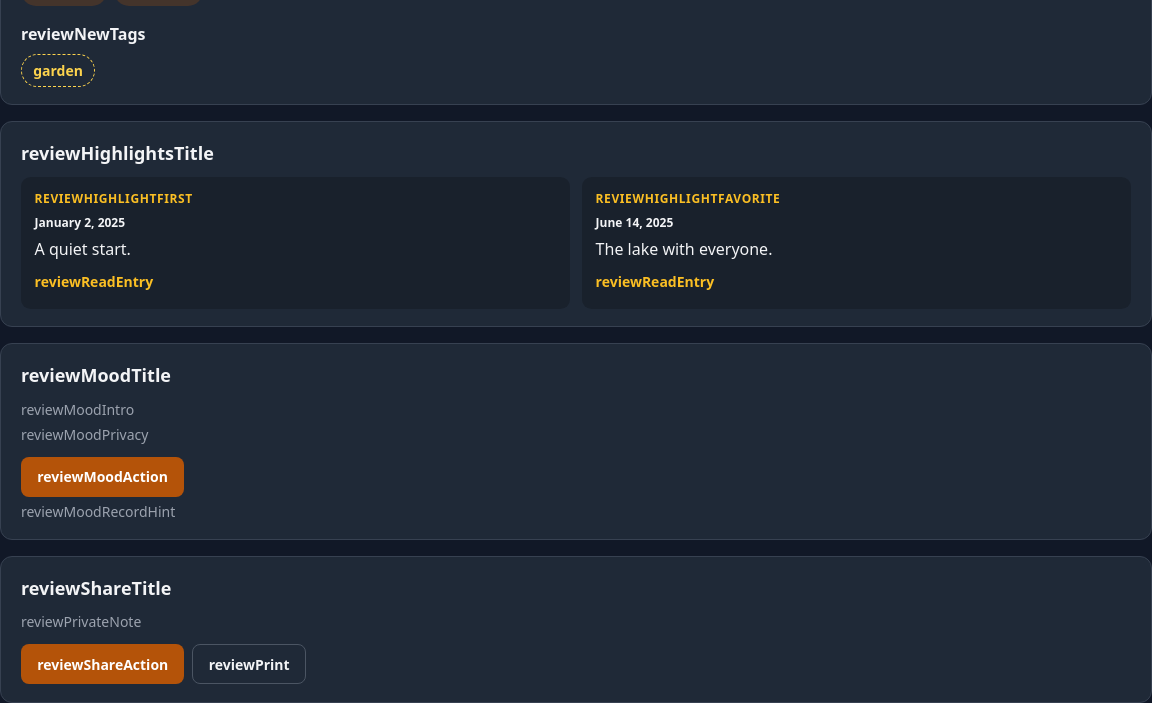
Test: YearReviewPage › reads the mood of the year on request and draws it
(page scrolled)
Check: the text "reviewMoodPrivacy" is shown, box [21,425,148,444]
Click the button "reviewMoodAction".
click(103, 477)  # box [21,457,184,497]
(page scrolled)
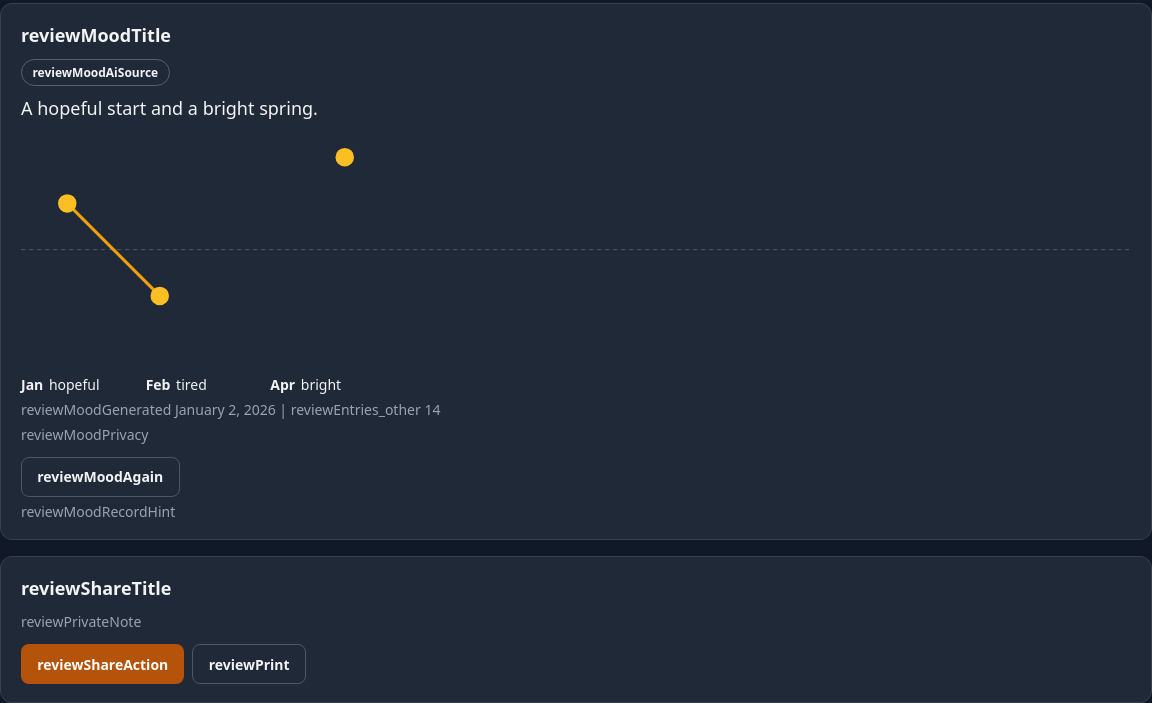
Check: the text "A hopeful start and a bright spring." is shown, box [21,96,318,120]
Check: the picture named "January: hopeful, February: tired, April: bright" is shown, box [21,134,1131,366]
Check: the button "reviewMoodAgain" is shown, box [21,457,180,497]
